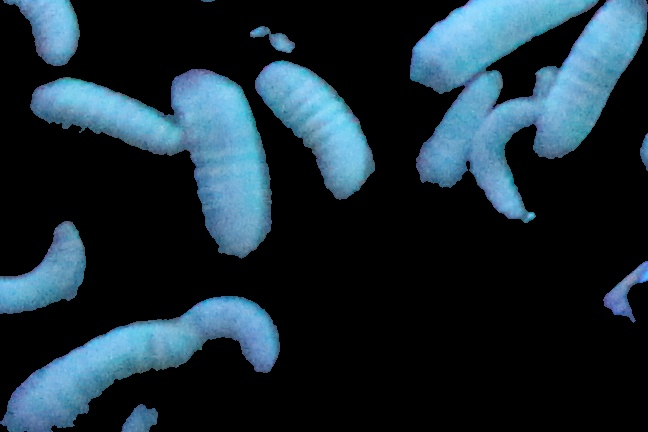larvae: (1, 314, 190, 432), (173, 69, 271, 256), (400, 1, 598, 89), (536, 1, 648, 156), (257, 60, 376, 197), (31, 77, 184, 152), (470, 91, 544, 220), (415, 74, 500, 182), (1, 221, 88, 313), (185, 296, 279, 381), (1, 1, 80, 64)
